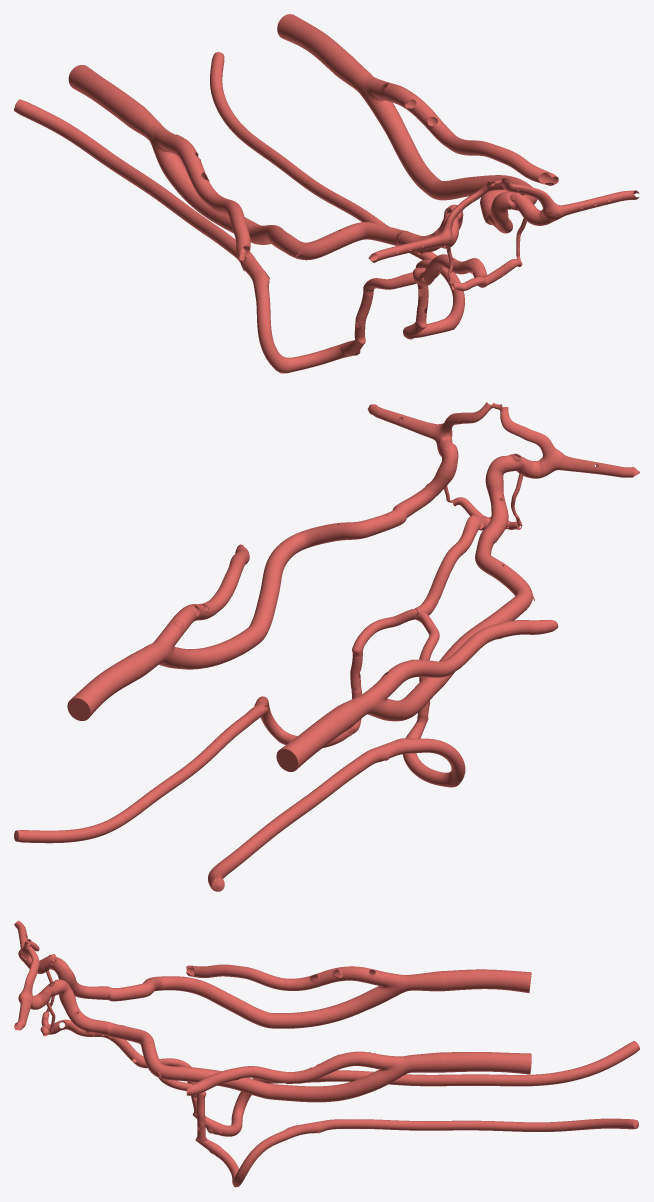
The picture shows the model from 3 angles, top to bottom: view 1: azimuth 30°, elevation 25°; view 2: azimuth 150°, elevation 25°; view 3: azimuth 270°, elevation 25°; orthographic projection. The views are drawn at different scales.
Parts seen in each view (by area): view 1: ICA cervical right, External carotid, Vertebral V2 left, ICA cervical left, External carotid left, Common carotid right, Common carotid left, Vertebral V2 right, Vertebral V3 left, ICA petrous left, Vertebral V1 left, Vertebral V4 left (+10 smaller); view 2: ICA cervical right, External carotid left, Vertebral V2 left, ICA cervical left, Common carotid right, Common carotid left, Vertebral V2 right, External carotid, ICA petrous right, Vertebral V3 left, Basilar, ICA cavernous right (+9 smaller); view 3: ICA cervical left, ICA cervical right, External carotid left, External carotid, Vertebral V2 right, Common carotid right, Common carotid left, Vertebral V2 left, Vertebral V1 left, ICA petrous right, Vertebral V3 right, ICA cavernous right (+8 smaller).
Part boxes in pixels (x1,y1,x2,y2): ICA cervical right: (356,74,532,200); External carotid: (363,76,558,185); Vertebral V2 left: (100,151,269,297); ICA cervical left: (148,125,304,259); External carotid left: (151,126,250,261); Common carotid right: (277,14,371,90); Common carotid left: (68,65,163,139); Vertebral V2 right: (228,119,426,259); Vertebral V3 left: (256,293,360,373); ICA petrous left: (300,222,405,260); Vertebral V1 left: (14,99,108,162); Vertebral V4 left: (349,272,416,352); ICA cervical right: (153,533,304,669); External carotid left: (363,620,558,702); Vertebral V2 left: (230,738,430,865); ICA cervical left: (362,589,534,721); Common carotid right: (67,643,165,720); Common carotid left: (276,694,372,771); Vertebral V2 right: (104,697,268,832); External carotid: (154,544,249,649); ICA petrous right: (298,507,406,549); Vertebral V3 left: (402,731,465,787); Basilar: (415,515,490,615); ICA cavernous right: (393,445,458,517); ICA cervical left: (162,975,408,1028); ICA cervical right: (157,1056,409,1102); External carotid left: (186,964,405,990); External carotid: (186,1051,402,1095); Vertebral V2 right: (271,1119,552,1144); Common carotid right: (405,1052,531,1074); Common carotid left: (405,969,531,992); Vertebral V2 left: (271,1070,554,1086); Vertebral V1 left: (552,1041,639,1084); ICA petrous right: (110,1022,162,1076); Vertebral V3 right: (207,1136,274,1187); ICA cavernous right: (53,980,110,1035).
Bounding box in the file's own units: 95.37 × 76.25 × 202.
